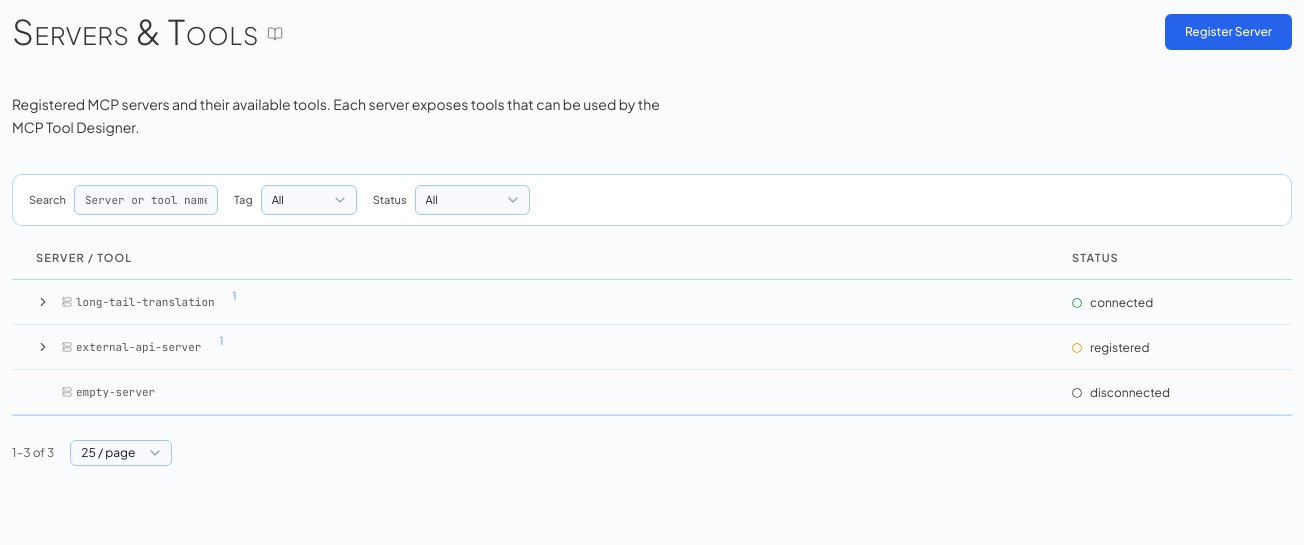
Test: McpServersPage › expands server to show tool rows on click
What coordinates should you click on to do the following:
click the row "long-tail-translation connected"
I would click on:
 (652, 302)
Its box is [12,279,1292,324].
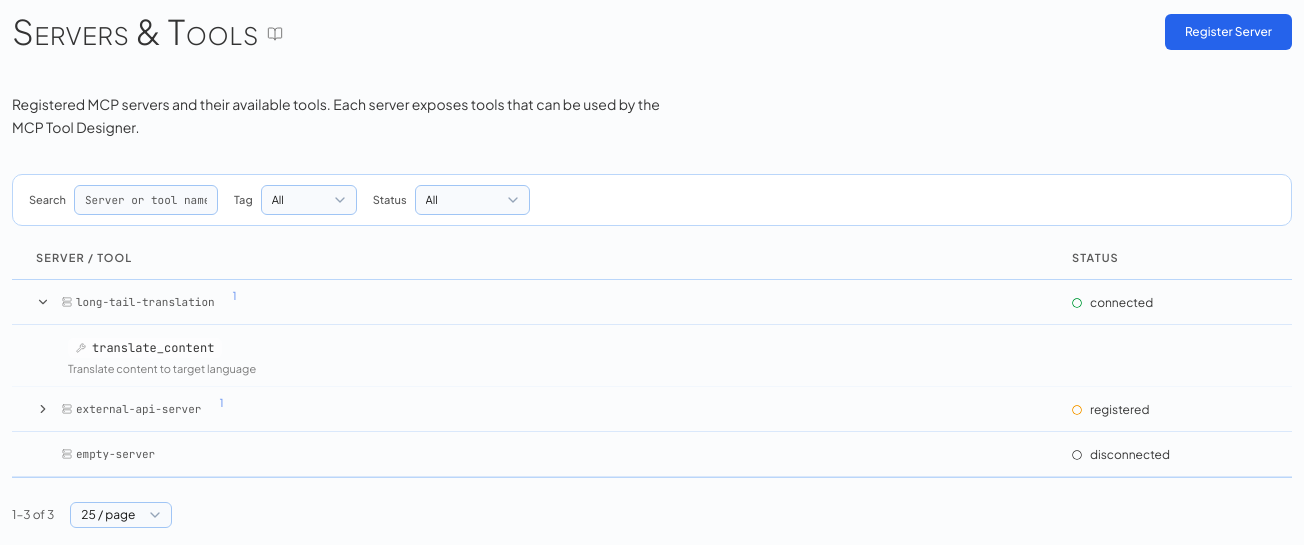
Now the text "translate_content" is shown, box [68,338,222,358]
